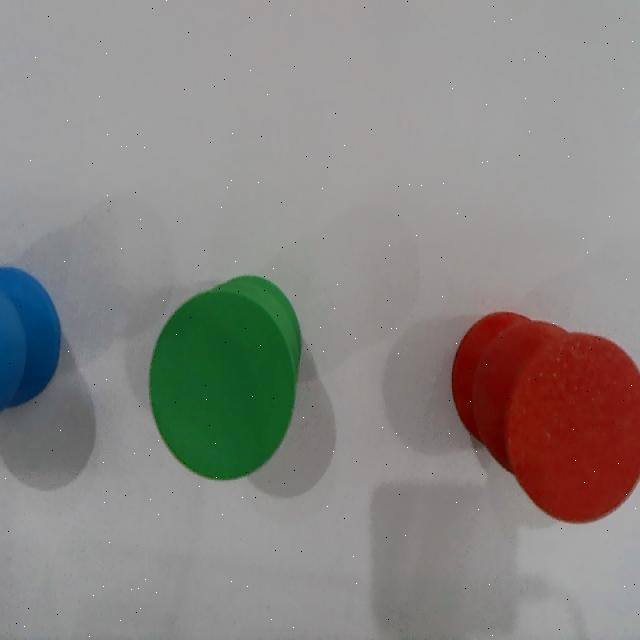g: (150, 290, 294, 482)
